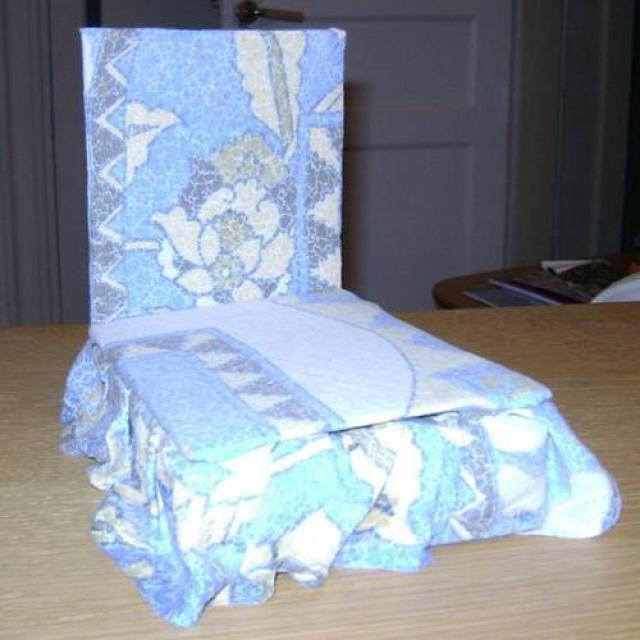bed: (58, 28, 623, 631)
